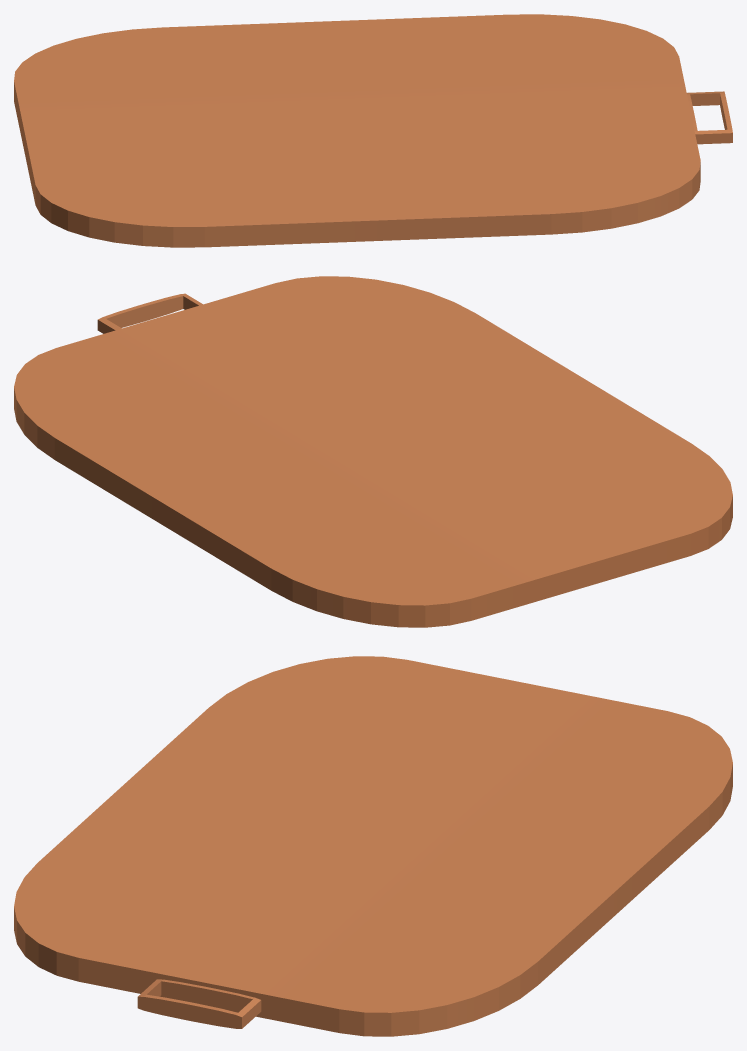
File: Cutter table con UV.fbx
The picture shows the model from 3 angles, top to bottom: view 1: azimuth 30°, elevation 25°; view 2: azimuth 150°, elevation 25°; view 3: azimuth 270°, elevation 25°; orthographic projection. The views are drawn at different scales.
Parts seen in each view (by area): view 1: Cube; view 2: Cube; view 3: Cube.
Part boxes in pixels (x1,y1,x2,y2): Cube: (14,14,732,247); Cube: (14,276,732,627); Cube: (14,656,732,1036).
Size of the model in its own units: 212 by 6.61 by 180.
